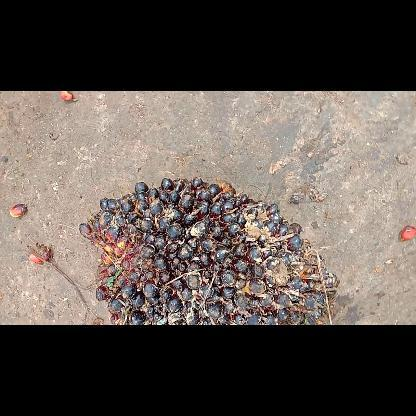TBS mentah: (78, 174, 340, 324)
